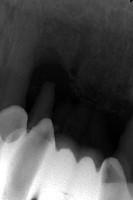Dental Caries: (24, 47, 82, 113)
